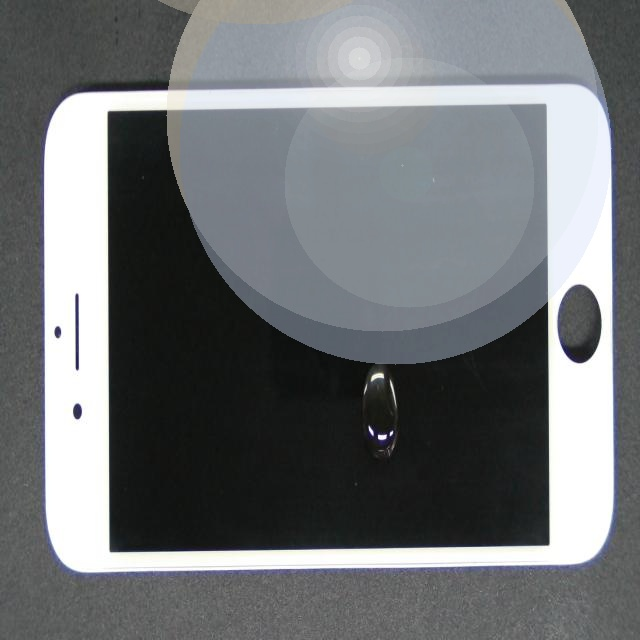oil: (219, 204, 589, 550)
